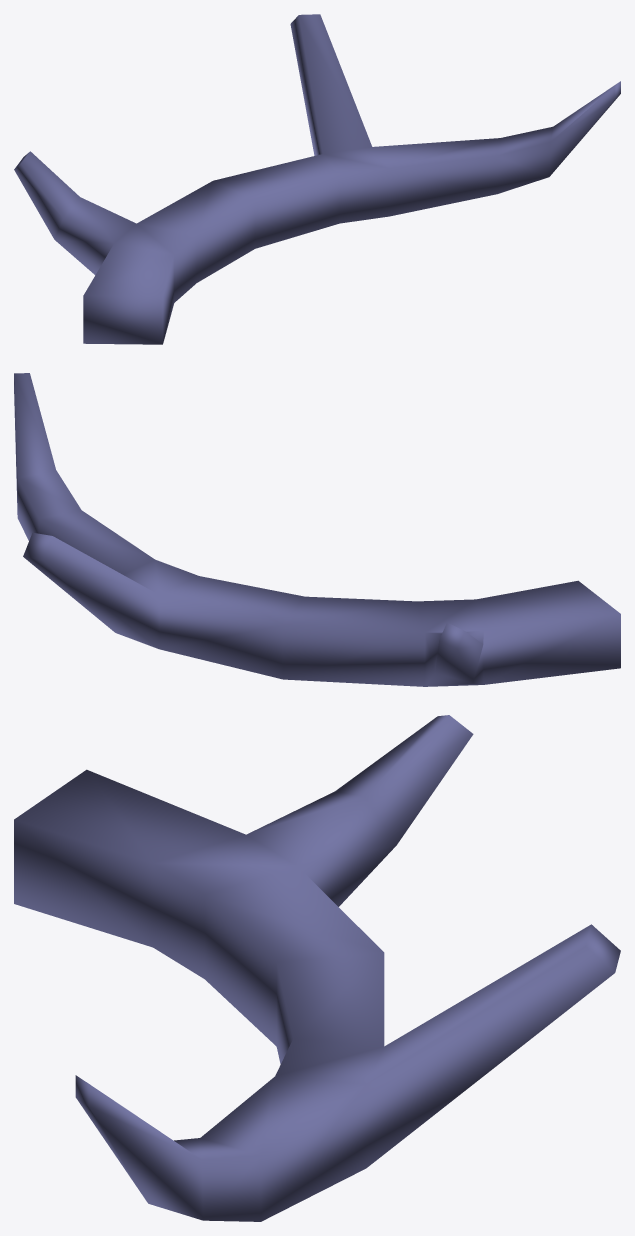
Rendered from animalBoneA.FBX.
The picture shows the model from 3 angles, top to bottom: view 1: azimuth 30°, elevation 25°; view 2: azimuth 150°, elevation 25°; view 3: azimuth 270°, elevation 25°; orthographic projection. The views are drawn at different scales.
Parts seen in each view (by area): view 1: animalBoneA; view 2: animalBoneA; view 3: animalBoneA.
Part boxes in pixels (left/top/right/bottom): animalBoneA: left=14, top=14, right=620, bottom=344; animalBoneA: left=14, top=373, right=620, bottom=686; animalBoneA: left=14, top=715, right=620, bottom=1221.
Bounding box in the file's own units: 0.2333 × 0.0561 × 0.1304.
